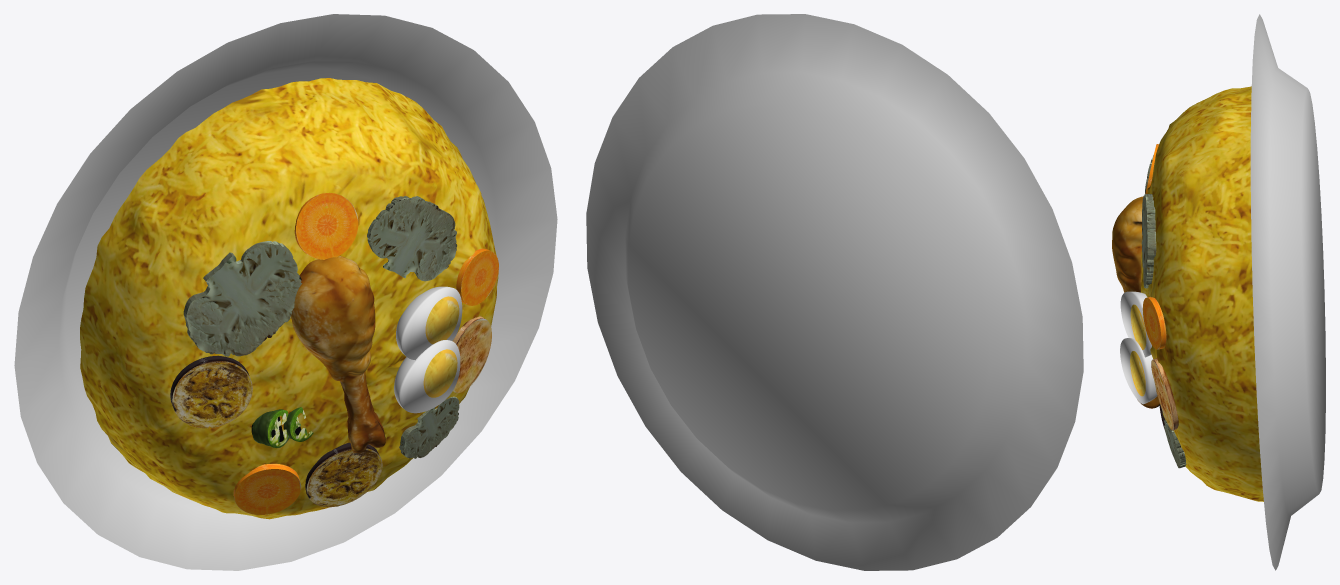
The model's file is maqloobahch-v4.glb.
The picture shows the model from 3 angles, left to right: view 1: azimuth 30°, elevation 25°; view 2: azimuth 150°, elevation 25°; view 3: azimuth 270°, elevation 25°; orthographic projection. The views are drawn at different scales.
Parts seen in each view (by area): view 1: Sphere.002, Circle.002, 15513_Fried_Chicken_Drumstick_v1.002, Vert, Vert.003, Cylinder.004, Cylinder.008, Sphere, Cylinder.001, Sphere.001, Cylinder.005, Vert.001 (+3 smaller); view 2: Circle.002; view 3: Sphere.002, Circle.002, 15513_Fried_Chicken_Drumstick_v1.002, Sphere, Sphere.001, Vert.003, Cylinder.003, Cylinder.009, Vert.001.
Part boxes in pixels (x1,y1,x2,y2): Sphere.002: (80, 78, 498, 519); Circle.002: (14, 14, 557, 570); 15513_Fried_Chicken_Drumstick_v1.002: (291, 256, 385, 453); Vert: (183, 241, 301, 356); Vert.003: (367, 196, 457, 281); Cylinder.004: (170, 355, 252, 428); Cylinder.008: (305, 442, 382, 507); Sphere: (394, 340, 460, 413); Cylinder.001: (294, 192, 358, 259); Sphere.001: (396, 286, 462, 360); Cylinder.005: (233, 463, 301, 514); Vert.001: (399, 396, 459, 458); Circle.002: (586, 14, 1083, 570); Sphere.002: (1141, 86, 1263, 501); Circle.002: (1250, 14, 1325, 570); 15513_Fried_Chicken_Drumstick_v1.002: (1112, 196, 1160, 408); Sphere: (1120, 338, 1157, 404); Sphere.001: (1120, 291, 1151, 357); Vert.003: (1141, 194, 1156, 288); Cylinder.003: (1151, 358, 1178, 430); Cylinder.009: (1142, 296, 1166, 349); Vert.001: (1164, 419, 1186, 468).
Bounding box in the file's own units: 7.5 × 7.5 × 2.89.
15 materials, 12 textured.
